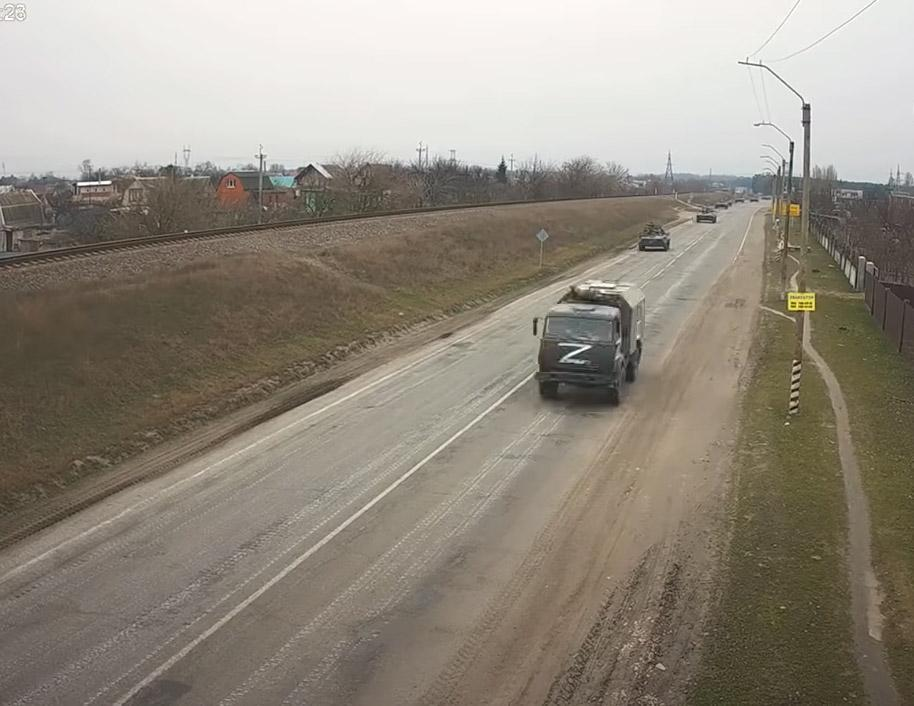tank: (636, 220, 683, 254), (696, 206, 718, 225)
truck: (536, 270, 649, 408)
